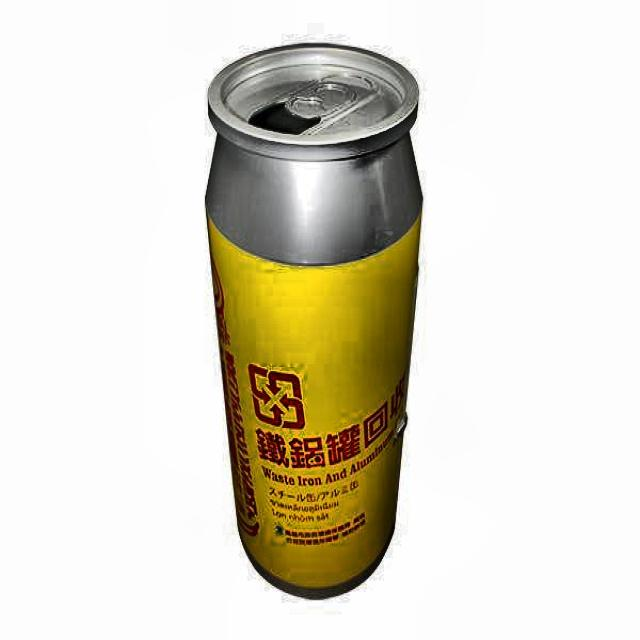can: (195, 32, 431, 605)
